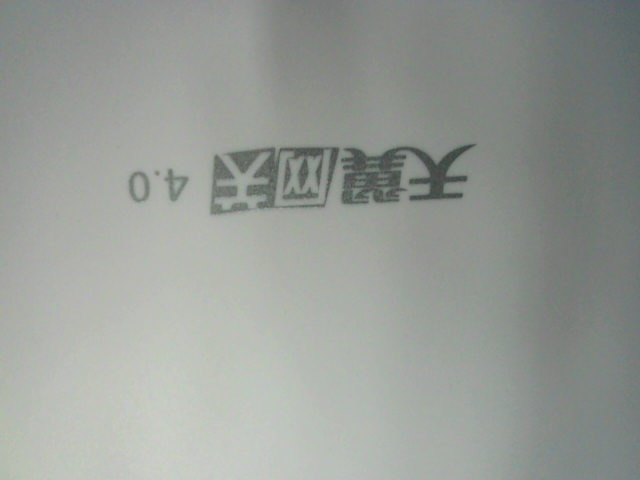BM_TianYiWangGuan: (118, 123, 476, 220)
